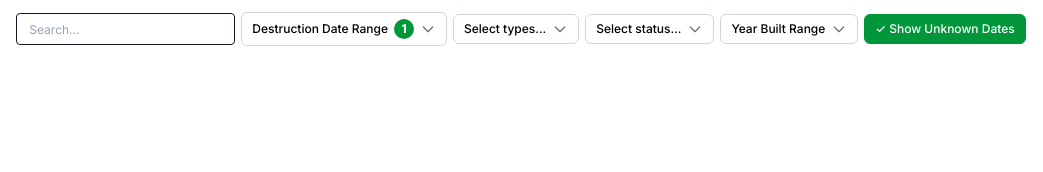
FilterBar — baseline behavior › the status filter offers only statuses present in the data (0-count hidden)
This screenshot has width=1043, height=172.
Click the button "Select status..." at point(650, 29), box [585,14,714,44]
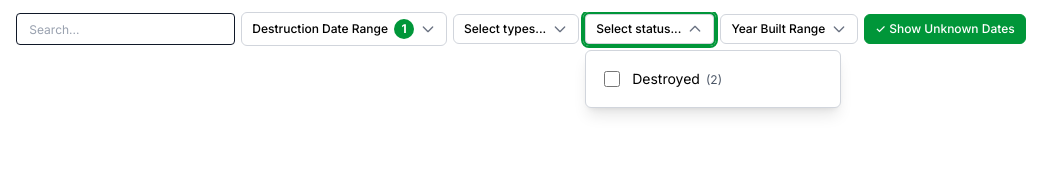
Result: the number of checkboxes is 1 at [604,71,620,87]
